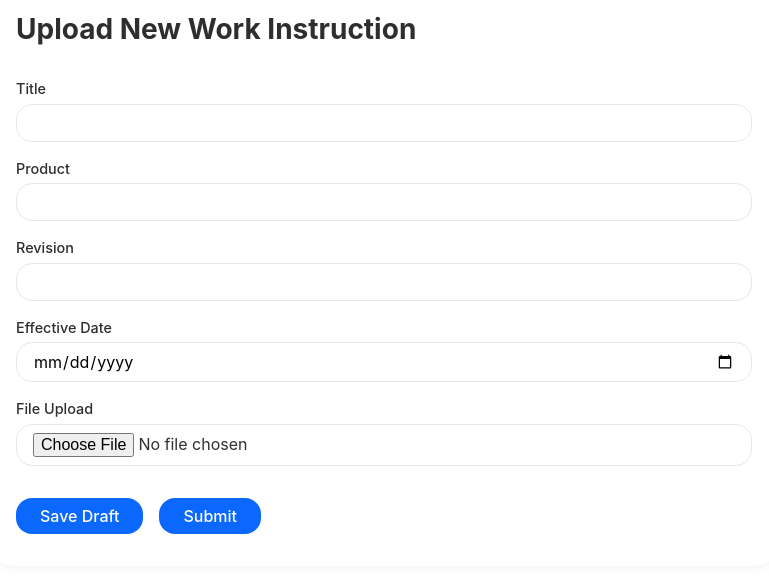
WIUploadForm component (mock hooks + async dispatch) › shows success message after saveDraftAsync
The width and height of the screenshot is (769, 578).
Click the button "Save Draft": (80, 516) [16,498,143,534]
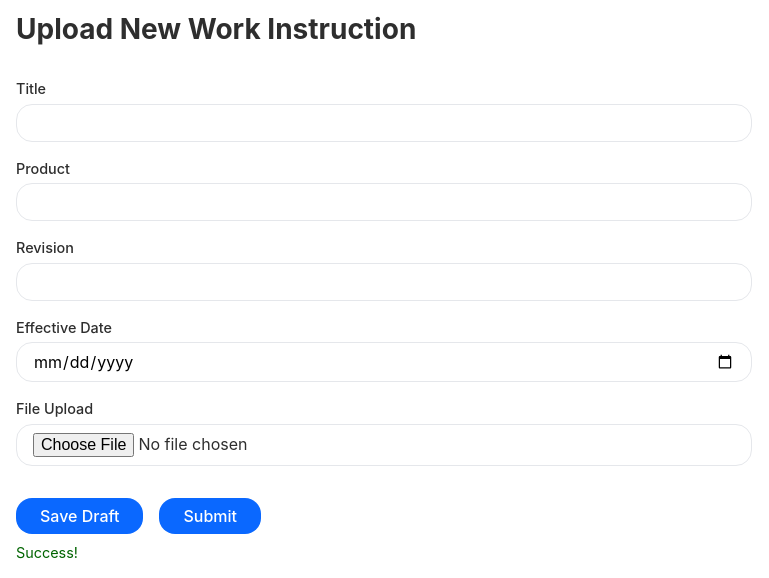
Now the text "Success!" is shown, box [16,544,78,561]
